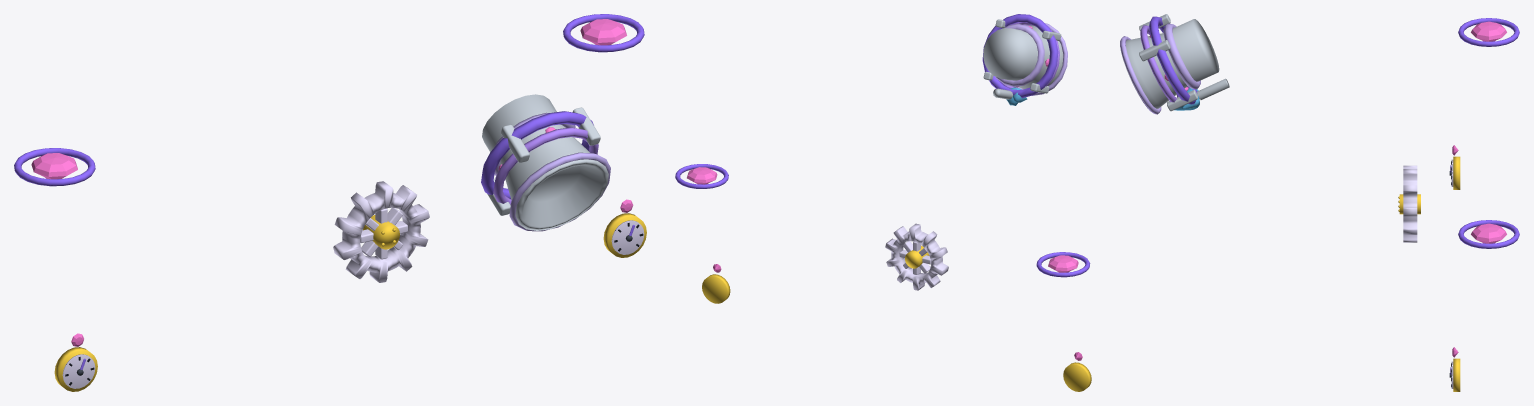
Rendered from FlamethrowerTurret_T4_Upgrades.fbx.
3 renders of one model, left to right at view 1: azimuth 30°, elevation 25°; view 2: azimuth 150°, elevation 25°; view 3: azimuth 270°, elevation 25°, orthographic. The views are drawn at different scales.
Parts seen in each view (by area): view 1: FlamethrowerTurretT4U1Nozzle, FlamethrowerTurretT4U3Gear1, FlamethrowerTurretT4U5PlasmaGlow, FlamethrowerTurretT4U3Gauges, FlamethrowerTurretT4U2Lamp1Glow, FlamethrowerTurretT4U2Lamp2Glow, FlamethrowerTurretT4U1NozzleGlow, FlamethrowerTurretT4U5Plasma; view 2: FlamethrowerTurretT4U1Nozzle, FlamethrowerTurretT4U3Gear1, FlamethrowerTurretT4U5PlasmaGlow, FlamethrowerTurretT4U3Gauges, FlamethrowerTurretT4U1NozzleGlow, FlamethrowerTurretT4U2Lamp2Glow, FlamethrowerTurretT4U2Lamp1Glow, FlamethrowerTurretT4U5Plasma; view 3: FlamethrowerTurretT4U1Nozzle, FlamethrowerTurretT4U5PlasmaGlow, FlamethrowerTurretT4U3Gear1, FlamethrowerTurretT4U1NozzleGlow, FlamethrowerTurretT4U2Lamp1Glow, FlamethrowerTurretT4U2Lamp2Glow, FlamethrowerTurretT4U5Plasma, FlamethrowerTurretT4U3Gauges.
Part boxes in pixels (left/top/right/bottom): FlamethrowerTurretT4U1Nozzle: left=482, top=94, right=608, bottom=230; FlamethrowerTurretT4U3Gear1: left=333, top=181, right=429, bottom=282; FlamethrowerTurretT4U5PlasmaGlow: left=481, top=111, right=598, bottom=204; FlamethrowerTurretT4U3Gauges: left=54, top=213, right=646, bottom=391; FlamethrowerTurretT4U2Lamp1Glow: left=563, top=14, right=644, bottom=52; FlamethrowerTurretT4U2Lamp2Glow: left=14, top=148, right=95, bottom=186; FlamethrowerTurretT4U1NozzleGlow: left=494, top=112, right=610, bottom=231; FlamethrowerTurretT4U5Plasma: left=487, top=107, right=600, bottom=215; FlamethrowerTurretT4U1Nozzle: left=983, top=25, right=1063, bottom=89; FlamethrowerTurretT4U3Gear1: left=885, top=223, right=948, bottom=290; FlamethrowerTurretT4U5PlasmaGlow: left=982, top=14, right=1059, bottom=98; FlamethrowerTurretT4U3Gauges: left=702, top=274, right=1091, bottom=391; FlamethrowerTurretT4U1NozzleGlow: left=995, top=23, right=1067, bottom=95; FlamethrowerTurretT4U2Lamp2Glow: left=1036, top=252, right=1090, bottom=277; FlamethrowerTurretT4U2Lamp1Glow: left=675, top=164, right=728, bottom=188; FlamethrowerTurretT4U5Plasma: left=983, top=19, right=1061, bottom=93; FlamethrowerTurretT4U1Nozzle: left=1120, top=19, right=1219, bottom=108; FlamethrowerTurretT4U5PlasmaGlow: left=1140, top=16, right=1197, bottom=104; FlamethrowerTurretT4U3Gear1: left=1398, top=165, right=1420, bottom=242; FlamethrowerTurretT4U1NozzleGlow: left=1120, top=23, right=1200, bottom=114; FlamethrowerTurretT4U2Lamp1Glow: left=1458, top=220, right=1519, bottom=248; FlamethrowerTurretT4U2Lamp2Glow: left=1458, top=18, right=1519, bottom=46; FlamethrowerTurretT4U5Plasma: left=1139, top=14, right=1197, bottom=111; FlamethrowerTurretT4U3Gauges: left=1449, top=156, right=1460, bottom=391.
Bounding box in the file's own units: 438 × 241 × 325.
